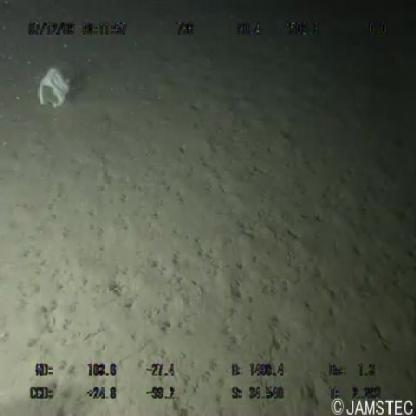Rác: (35, 59, 73, 120)
